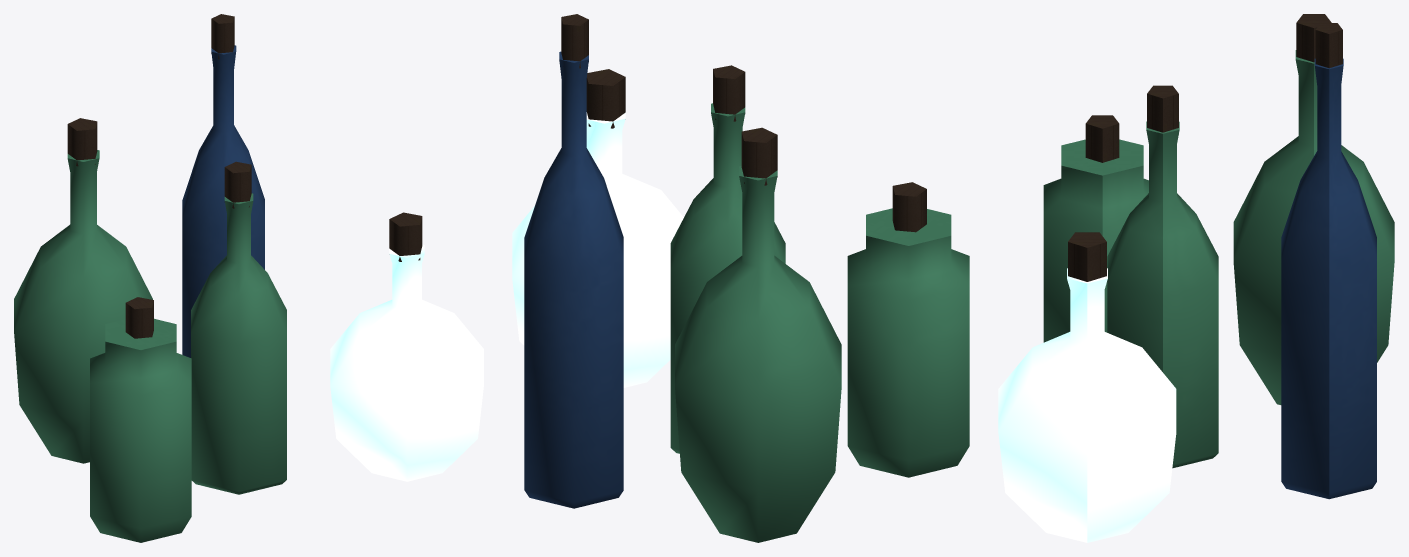
Rendered from bottles_lod1.glb.
The picture shows the model from 3 angles, left to right: view 1: azimuth 30°, elevation 25°; view 2: azimuth 150°, elevation 25°; view 3: azimuth 270°, elevation 25°; orthographic projection. The views are drawn at different scales.
Visible parts, largest first — view 1: bottles; view 2: bottles; view 3: bottles.
Boxes of the visible parts, x1=… form: bottles: x1=14, y1=14, x2=483, y2=542; bottles: x1=512, y1=14, x2=969, y2=542; bottles: x1=998, y1=14, x2=1394, y2=542.
Size of the model in its own units: 0.3431 by 0.3287 by 0.2622.
Materials: 1 (1 with a texture image).
